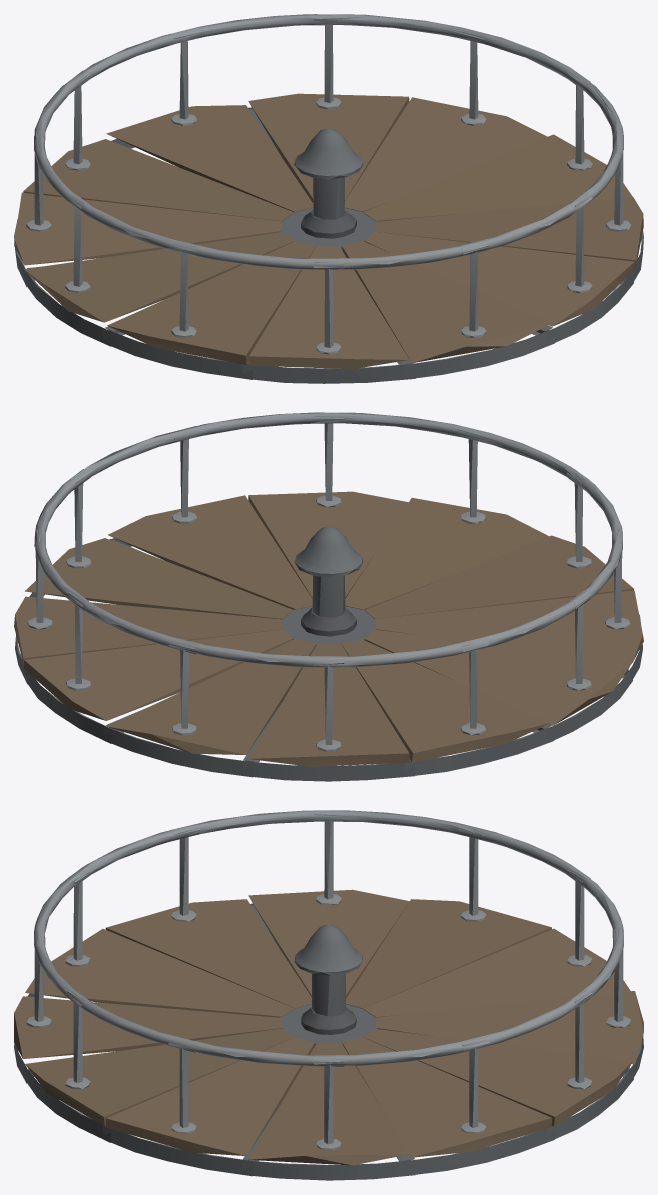
The model's file is merrygo.glb.
3 views of the same model, one above another, from view 1: azimuth 30°, elevation 25°; view 2: azimuth 150°, elevation 25°; view 3: azimuth 270°, elevation 25° (orthographic).
Parts seen in each view (by area): view 1: deck, spinner_frame; view 2: deck, spinner_frame; view 3: deck, spinner_frame.
Boxes of the visible parts, bbox=[...] form: deck: bbox=[14, 93, 643, 368]; spinner_frame: bbox=[14, 14, 643, 383]; deck: bbox=[14, 491, 643, 766]; spinner_frame: bbox=[15, 412, 642, 781]; deck: bbox=[14, 889, 643, 1165]; spinner_frame: bbox=[14, 810, 643, 1180].
Bounding box in the file's own units: 2.5 × 0.8 × 2.5.
